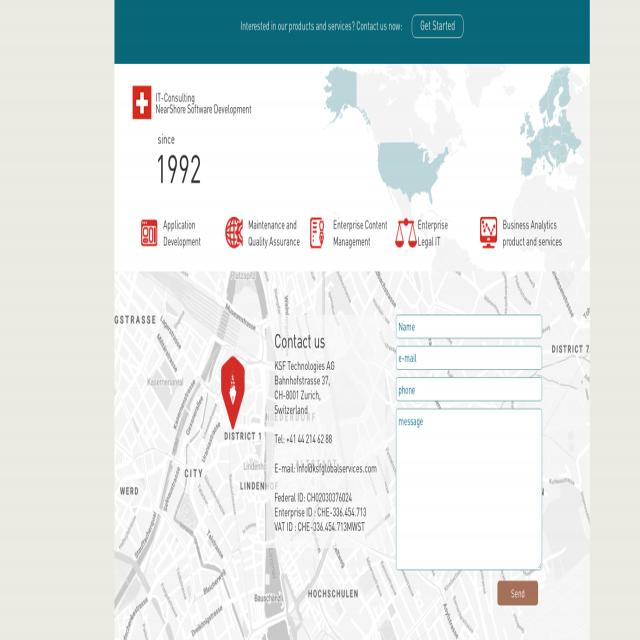button: (475, 212, 569, 258), (222, 210, 304, 256), (309, 212, 388, 256), (134, 210, 205, 258), (393, 214, 453, 258), (216, 352, 248, 434), (412, 15, 463, 37), (498, 581, 538, 605)
field: (395, 410, 542, 569), (396, 314, 542, 339), (396, 377, 542, 402), (396, 346, 542, 370)
